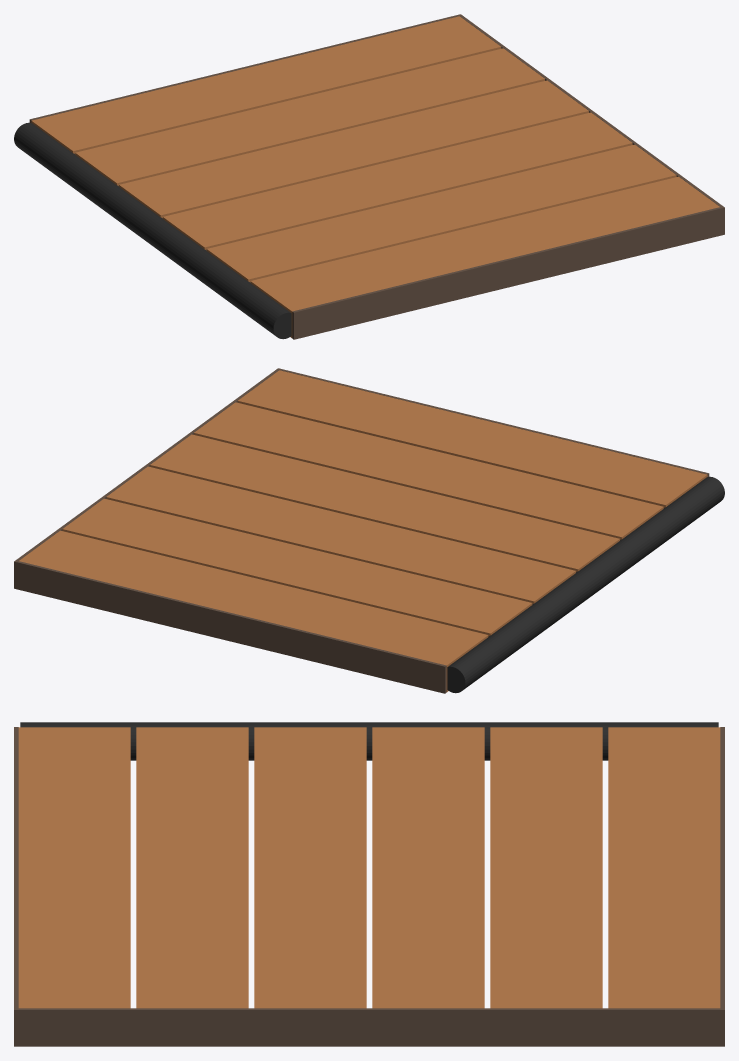
File: Trap3.fbx
3 renders of one model, top to bottom at view 1: azimuth 30°, elevation 25°; view 2: azimuth 150°, elevation 25°; view 3: azimuth 270°, elevation 25°, orthographic. The views are drawn at different scales.
Parts seen in each view (by area): view 1: Cylinder; view 2: Cylinder; view 3: Cylinder.
Part boxes in pixels (x1,y1,x2,y2): Cylinder: (14, 14, 724, 339); Cylinder: (14, 368, 724, 693); Cylinder: (14, 722, 724, 1046).
Size of the model in its own units: 350 by 20.18 by 356.
